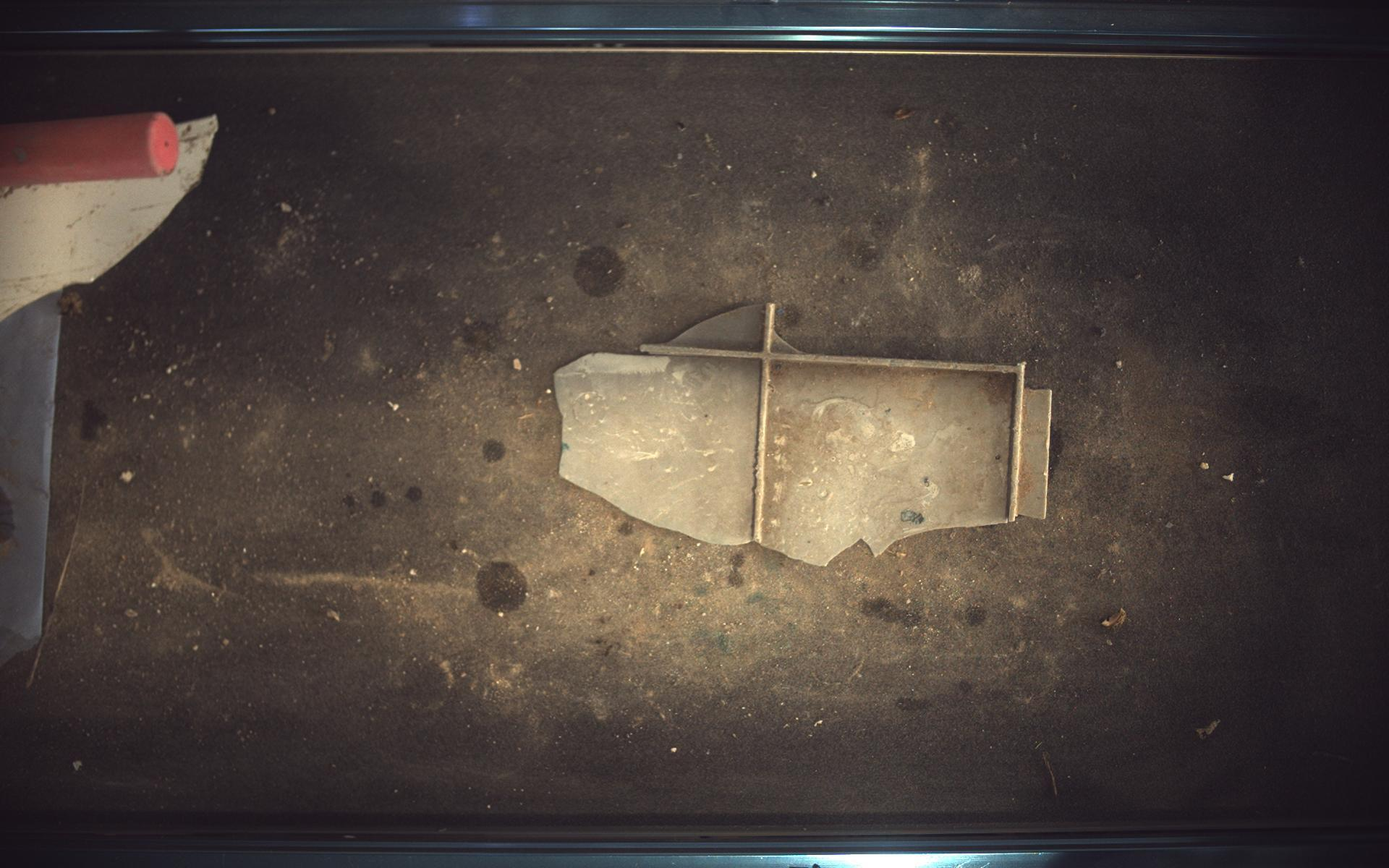plastic: (555, 304, 1053, 566), (1, 115, 217, 320), (1, 111, 177, 186)
